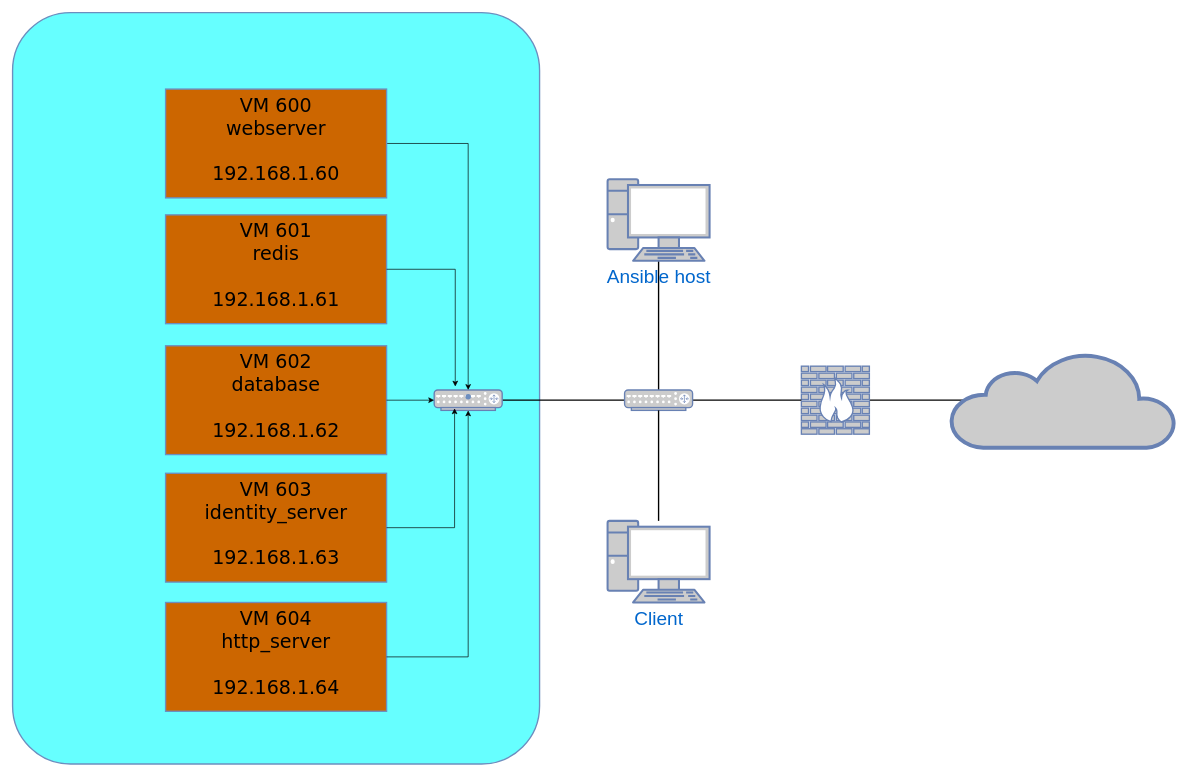
Some shapes in this 1187 by 776 pixel diagram are drawn without their labels. The box of each missing label's shape, as (x1, y1, x2, y2) in pixels:
Internet: (950, 352, 1176, 448)
Node: Proxmox 1: (12, 12, 540, 764)
VMBR0: (433, 389, 503, 411)
